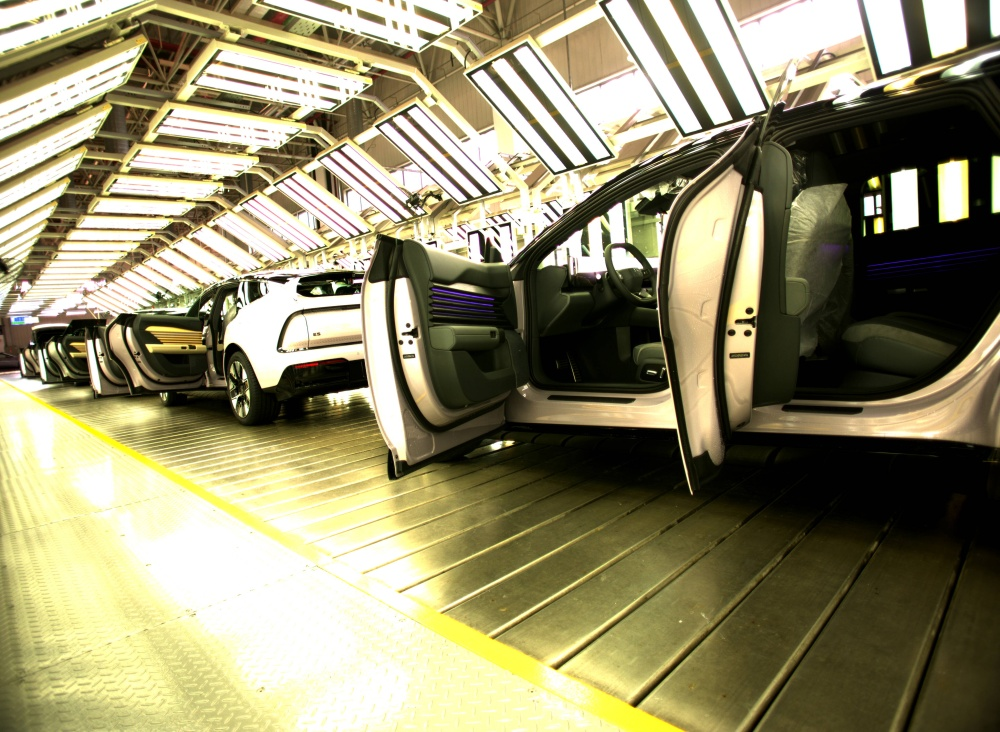armrest_color: (427, 324, 502, 351)
panel_color: (426, 277, 505, 329)
